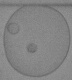small: (8, 23, 21, 34), (28, 43, 37, 53)
